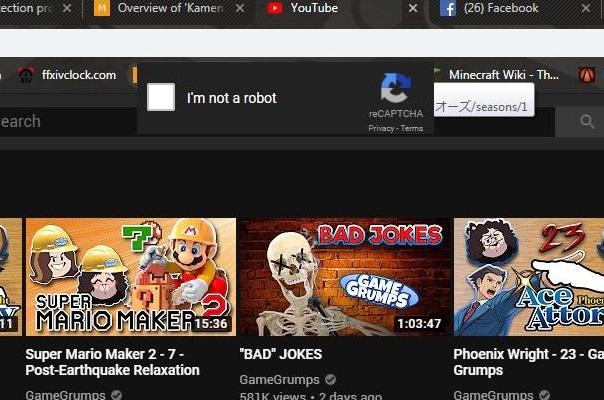captcha: (147, 83, 278, 112)
